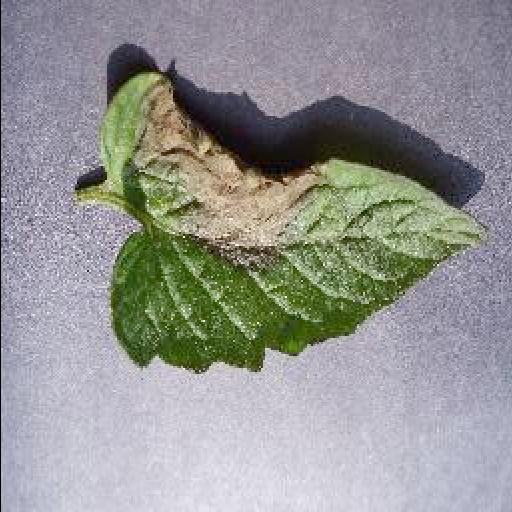disease_tomato: (94, 70, 490, 374)
